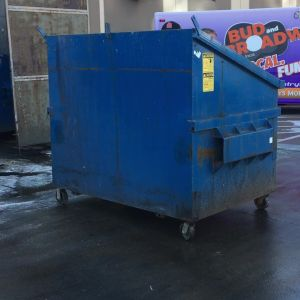Dumpster: (35, 20, 288, 245)
